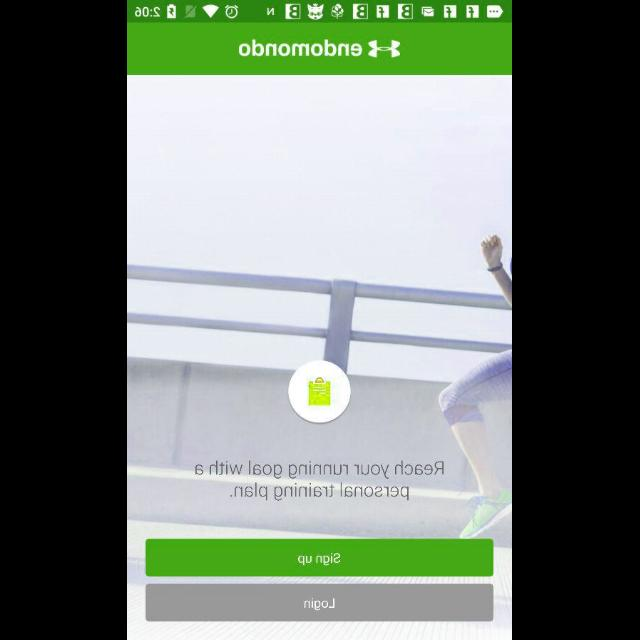button: (288, 360, 352, 424)
image: (239, 40, 401, 59)
text: (196, 460, 444, 502)
textbutton: (146, 583, 494, 621), (146, 538, 494, 576)
toolbar: (128, 23, 512, 75)
uppertaskbar: (128, 1, 512, 23)
